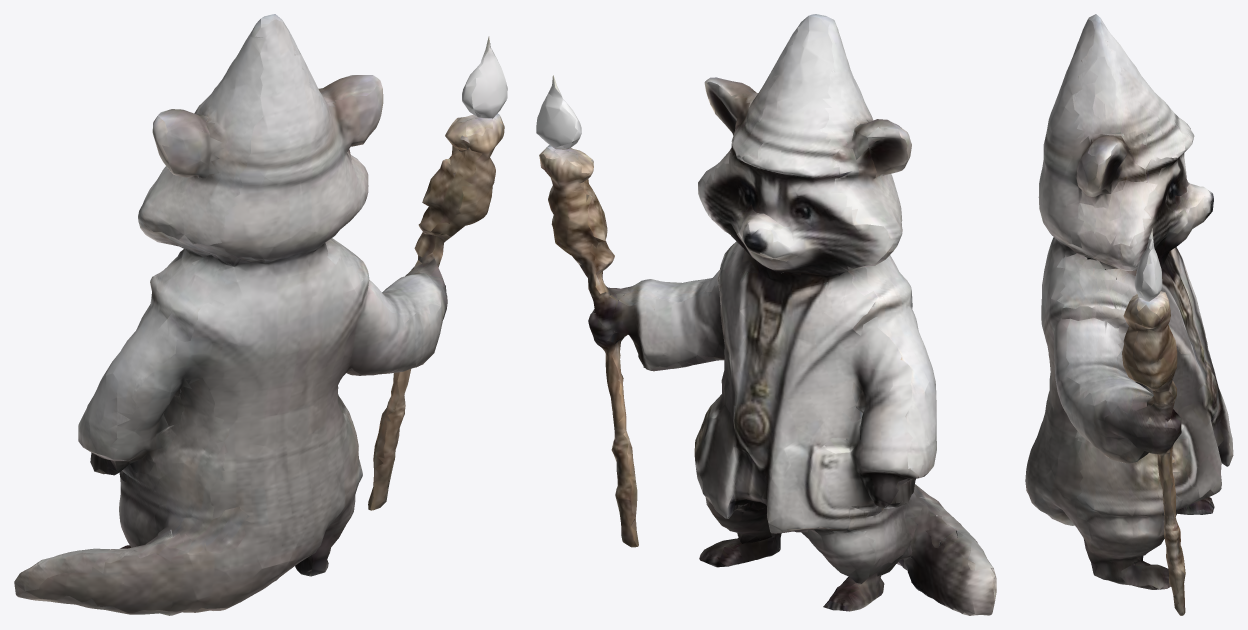
File: magicracoon.glb
3 renders of one model, left to right at view 1: azimuth 30°, elevation 25°; view 2: azimuth 150°, elevation 25°; view 3: azimuth 270°, elevation 25°, orthographic. The views are drawn at different scales.
Parts seen in each view (by area): view 1: world; view 2: world; view 3: world.
Boxes of the visible parts, x1,y1,x2,y2 form: world: (14, 14, 507, 615); world: (536, 14, 996, 615); world: (1025, 14, 1233, 615).
Bounding box in the file's own units: 0.8251 × 0.9286 × 0.3258.
Materials: 1 (1 with a texture image).
